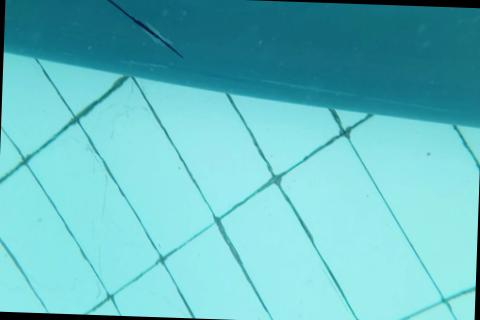keretakan: (81, 0, 186, 58)
